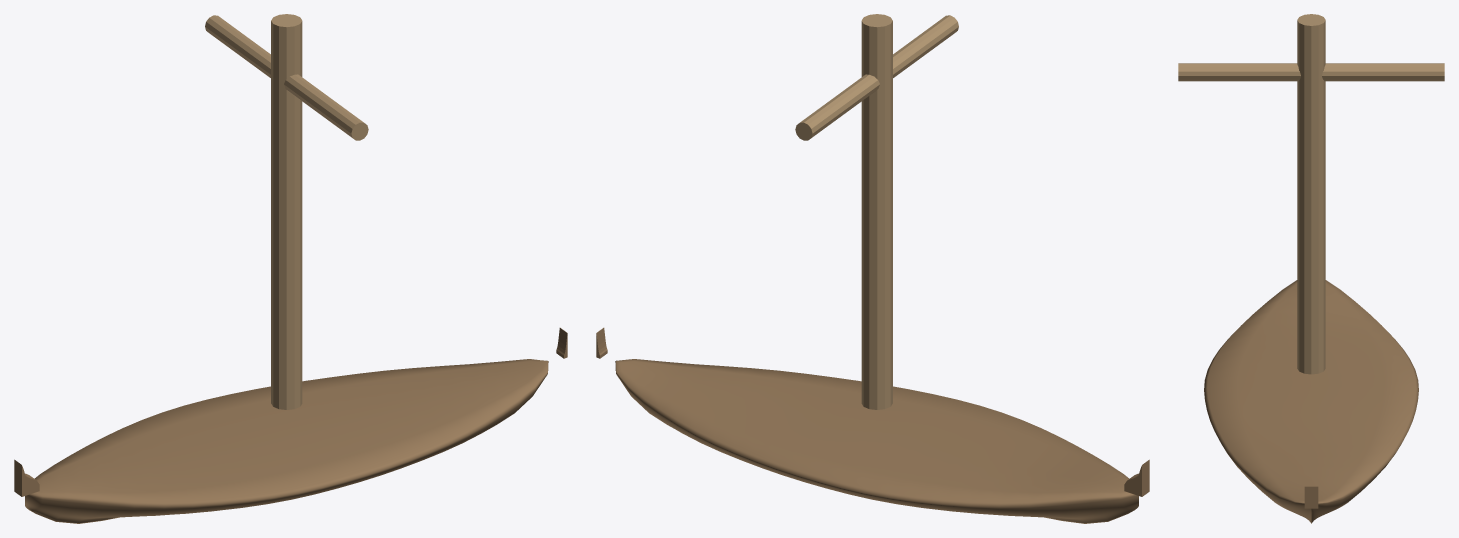
Rendered from hull-beamy.glb.
The picture shows the model from 3 angles, left to right: view 1: azimuth 30°, elevation 25°; view 2: azimuth 150°, elevation 25°; view 3: azimuth 270°, elevation 25°; orthographic projection. The views are drawn at different scales.
Parts seen in each view (by area): view 1: hull, Cylinder, Cylinder.001, posts; view 2: hull, Cylinder, Cylinder.001, posts; view 3: hull, Cylinder, Cylinder.001, posts.
Part boxes in pixels (x1,y1,x2,y2): hull: (25, 359, 548, 523); Cylinder: (271, 14, 302, 409); Cylinder.001: (205, 15, 368, 140); posts: (14, 327, 567, 496); hull: (615, 359, 1138, 523); Cylinder: (861, 14, 892, 409); Cylinder.001: (795, 15, 958, 140); posts: (596, 327, 1149, 496); hull: (1204, 280, 1418, 523); Cylinder: (1297, 14, 1325, 374); Cylinder.001: (1178, 63, 1444, 81); posts: (1304, 486, 1318, 508).
Size of the model in its own units: 0.8863 by 0.7128 by 0.4119.
